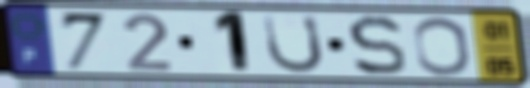1: (210, 9, 255, 78)
2: (121, 11, 175, 73)
7: (54, 10, 113, 71)
O: (410, 15, 475, 78)
S: (344, 13, 410, 78)
U: (261, 13, 328, 76)
